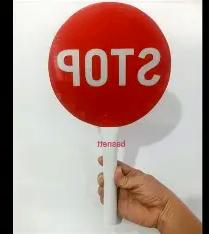Stop: (49, 2, 171, 126)
